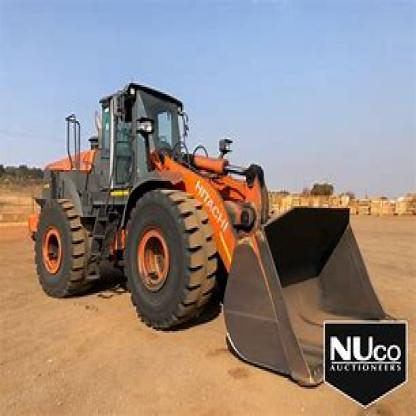bull_dozer/loader/grader: (27, 80, 398, 392)
